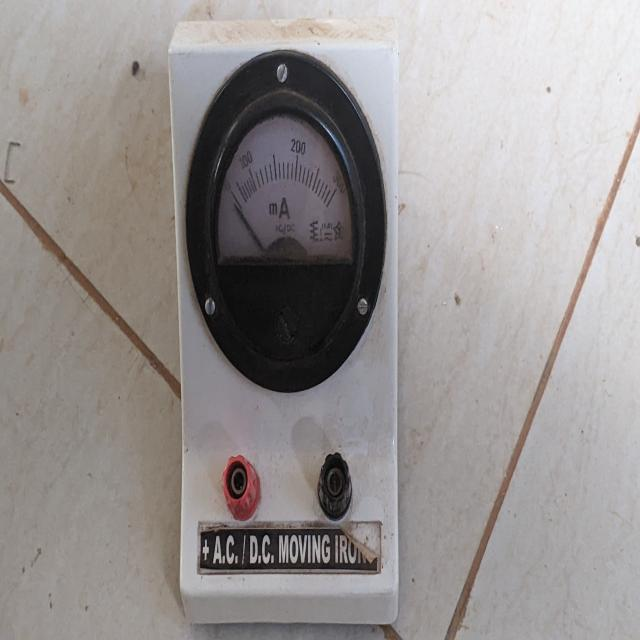Ammeter Analog: (162, 32, 410, 637)
